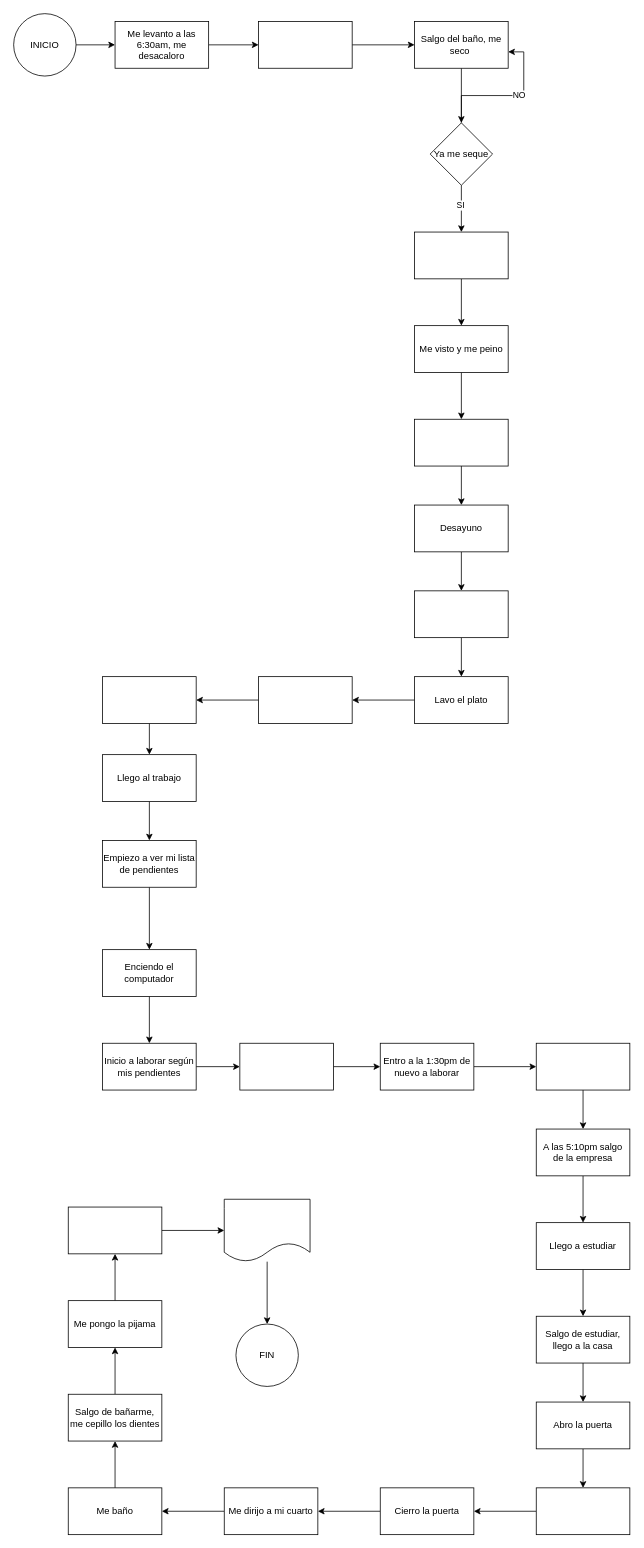
Image size: 644x1548. Some labels were removed from this diagram. The shapes that lost their labels are listed below. From the top down, each one's box as (x1, y1, x2, y2) in pixels, then its label:
(258, 21, 352, 68): Voy al baño, me ducho
(414, 231, 508, 279): Cepillarme los dientes
(414, 418, 508, 466): Salgo de mi cuarto
(414, 590, 508, 638): Me paro de la mesa
(102, 676, 196, 723): Salgo al trabajo y enciendo la moto
(258, 676, 352, 723): Voy a mi cuarto por el maletin
(239, 1042, 333, 1090): A las 12:30pm salgo almorzar
(535, 1042, 630, 1090): A las 4pm me doy un descanso y como algo
(67, 1206, 162, 1254): Me acuesto
(223, 1198, 310, 1262): Duermo
(535, 1487, 630, 1535): Entro la moto
